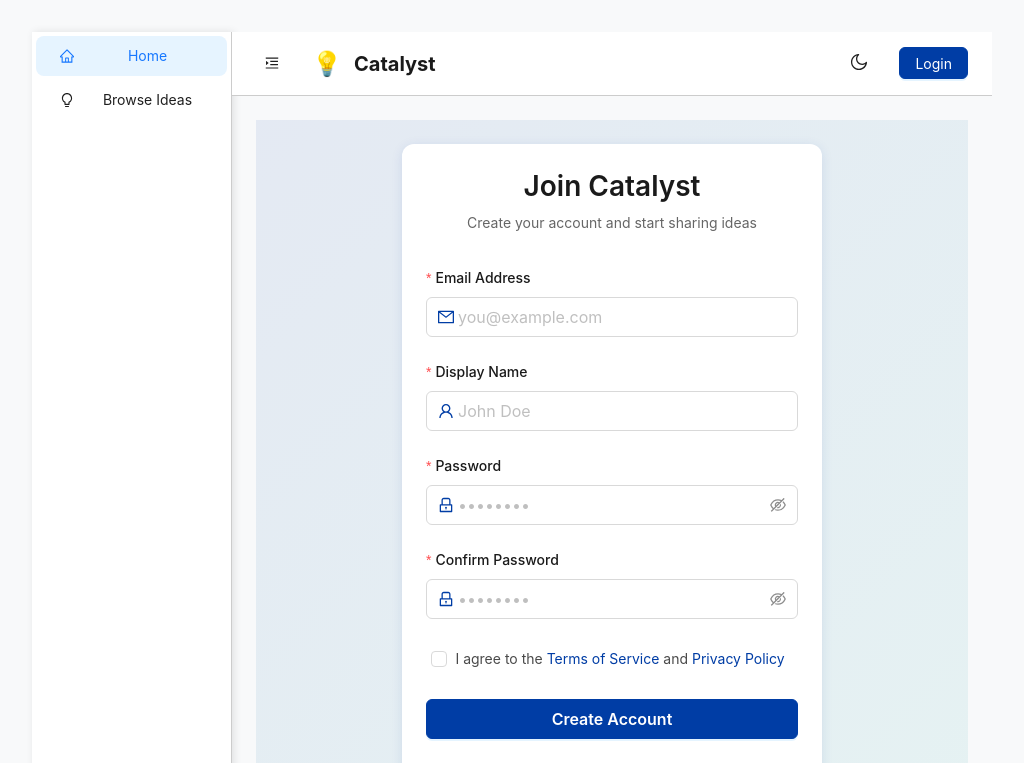
it: RegisterPage Component › surface errors from the register action
Type "test@example.com" into the field with test id "register-email-input" at (622, 317), box [458, 305, 786, 329]
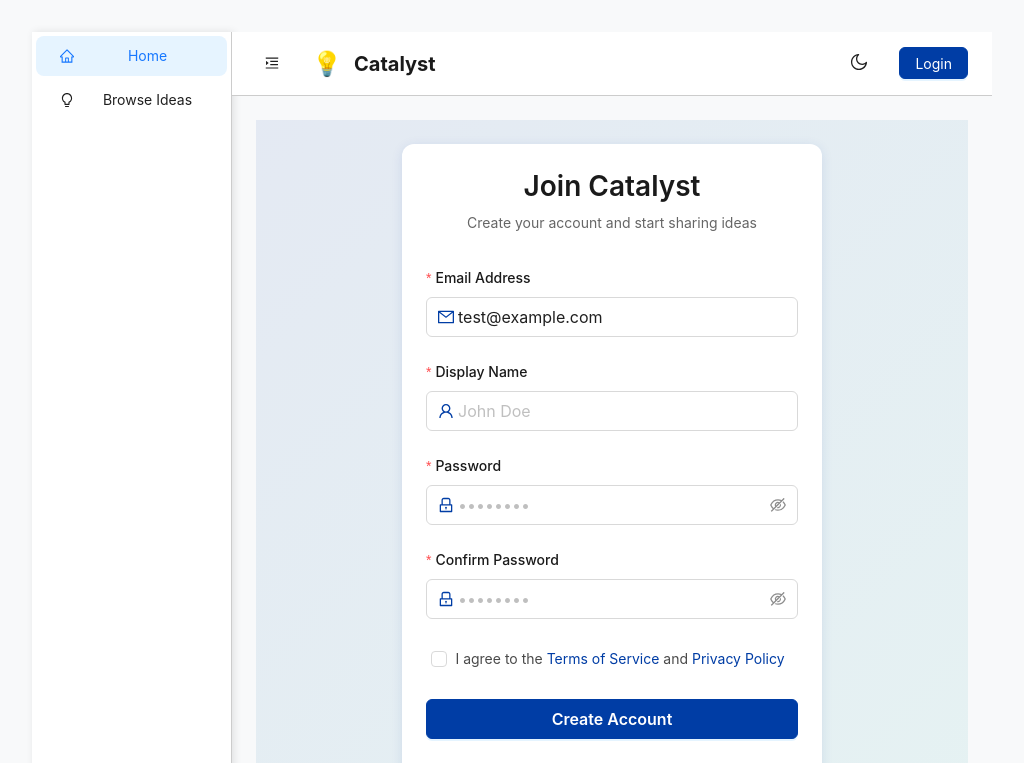
Type "Test User" into the field with test id "register-displayname-input" at (622, 411), box [458, 399, 786, 423]
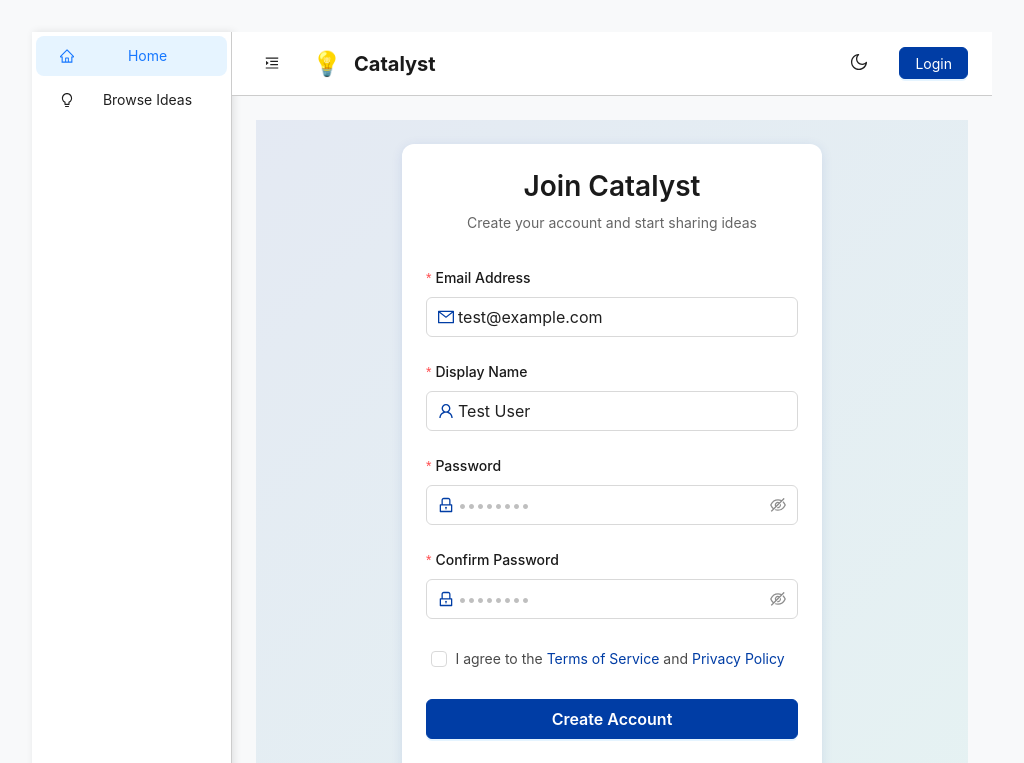
Type "Password123!" into the password field with test id "register-password-input" at (612, 505), box [458, 493, 766, 517]
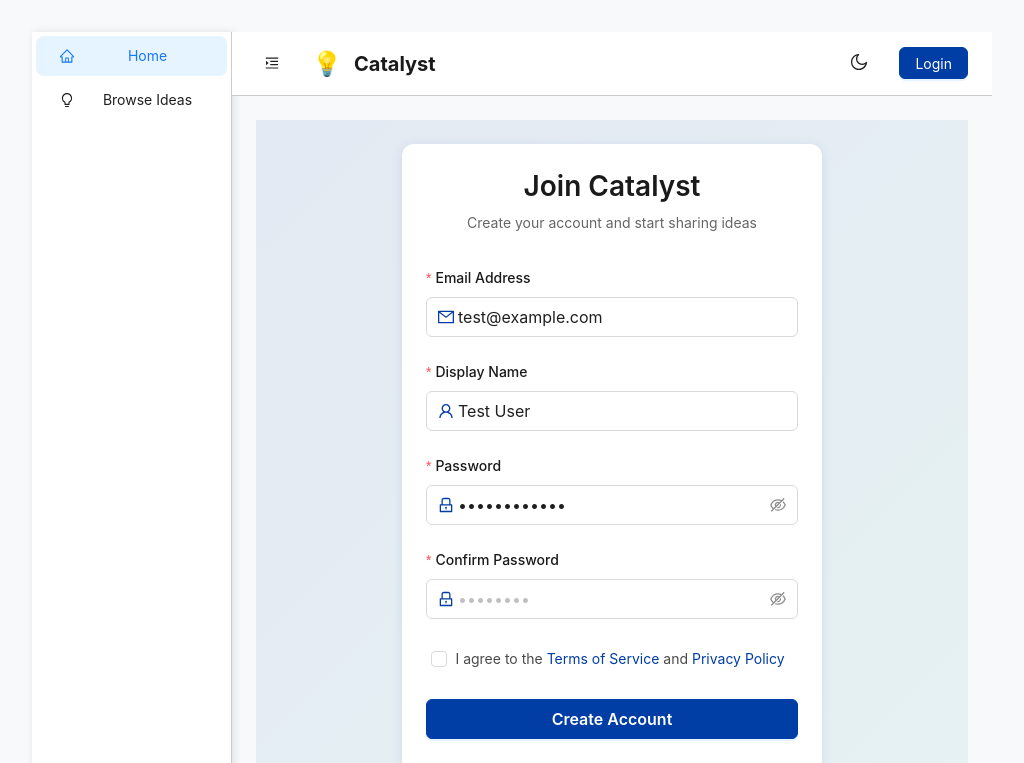
Type "Password123!" into the password field with test id "register-confirm-password-input" at (612, 599), box [458, 587, 766, 611]
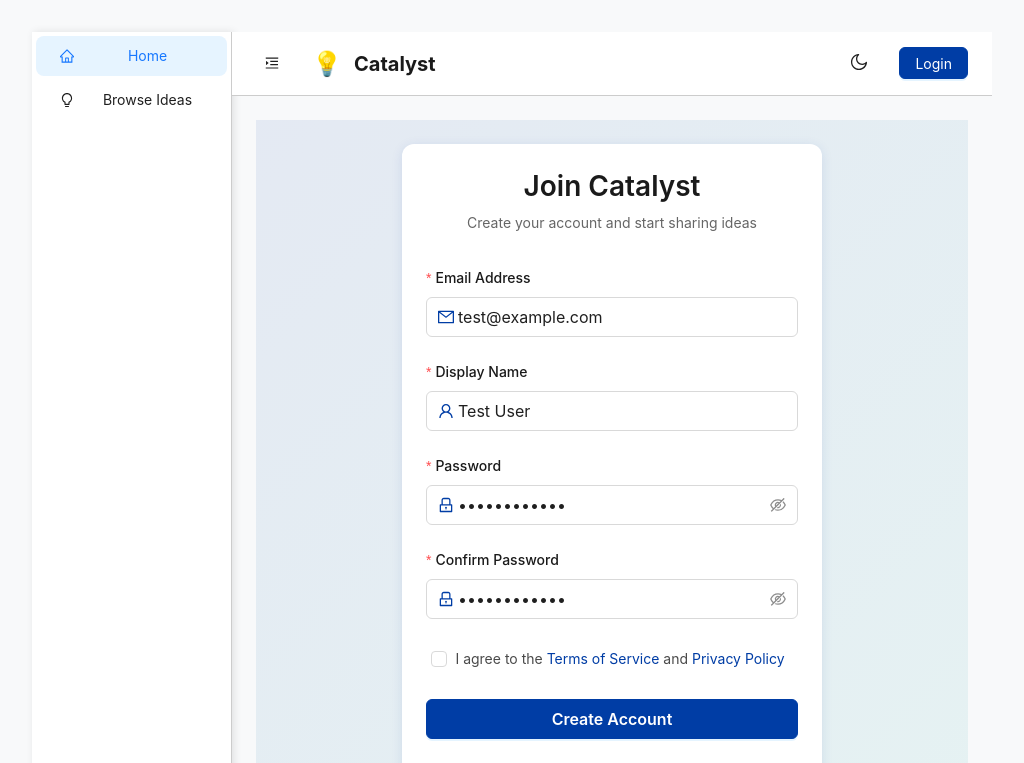
Click the checkbox at (612, 659), box [431, 648, 792, 670]
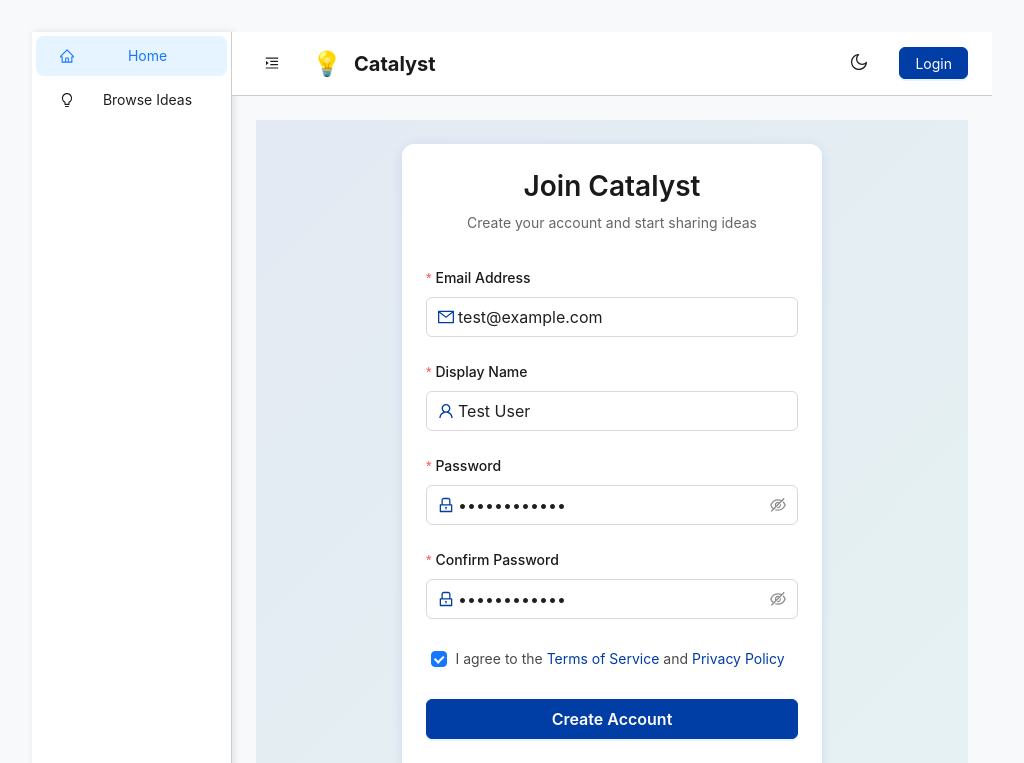
Click the button with test id "register-submit" at (612, 719), box [426, 699, 798, 739]
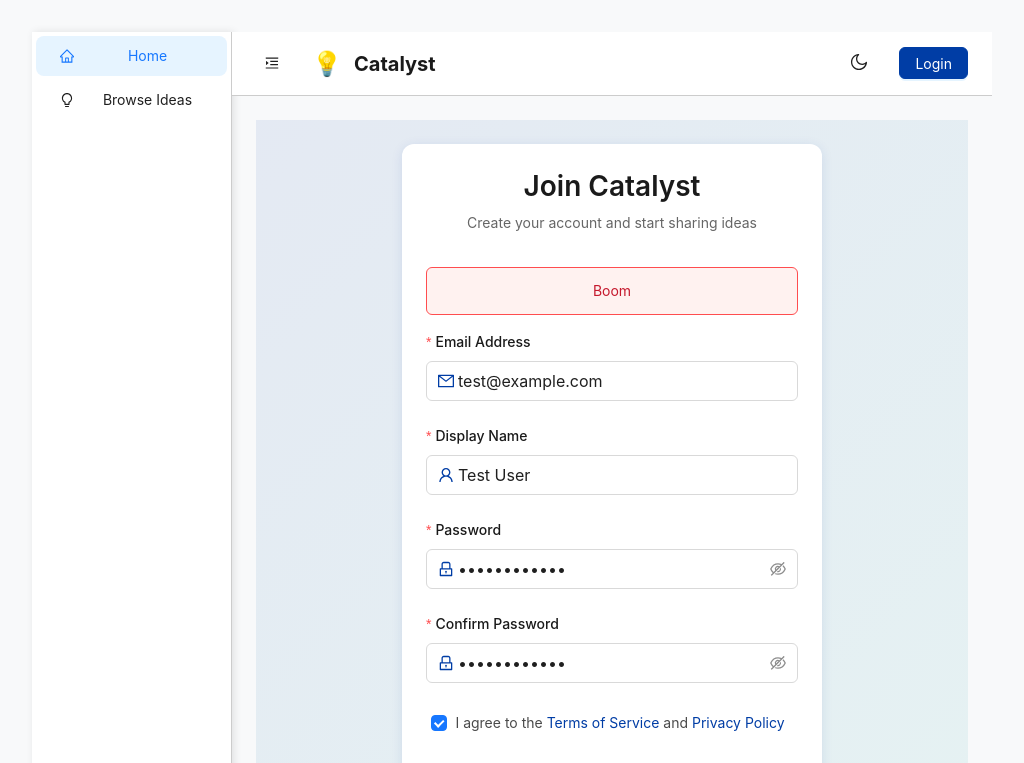
Expected: the text "Boom" is shown, [426, 267, 798, 315]
